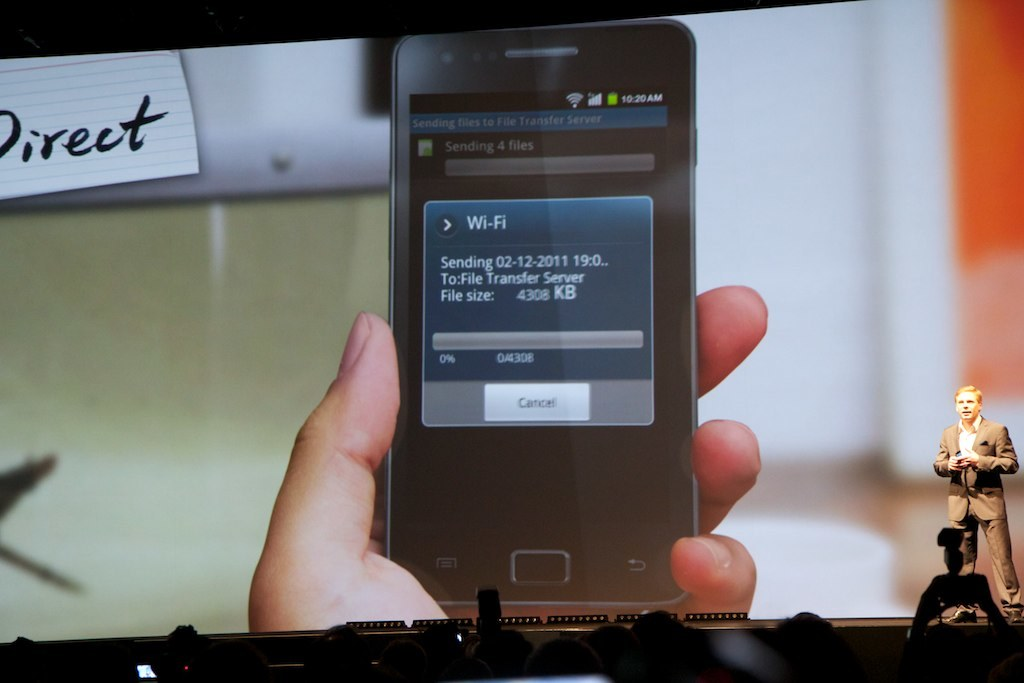Mobile-phone: (390, 22, 701, 612)
